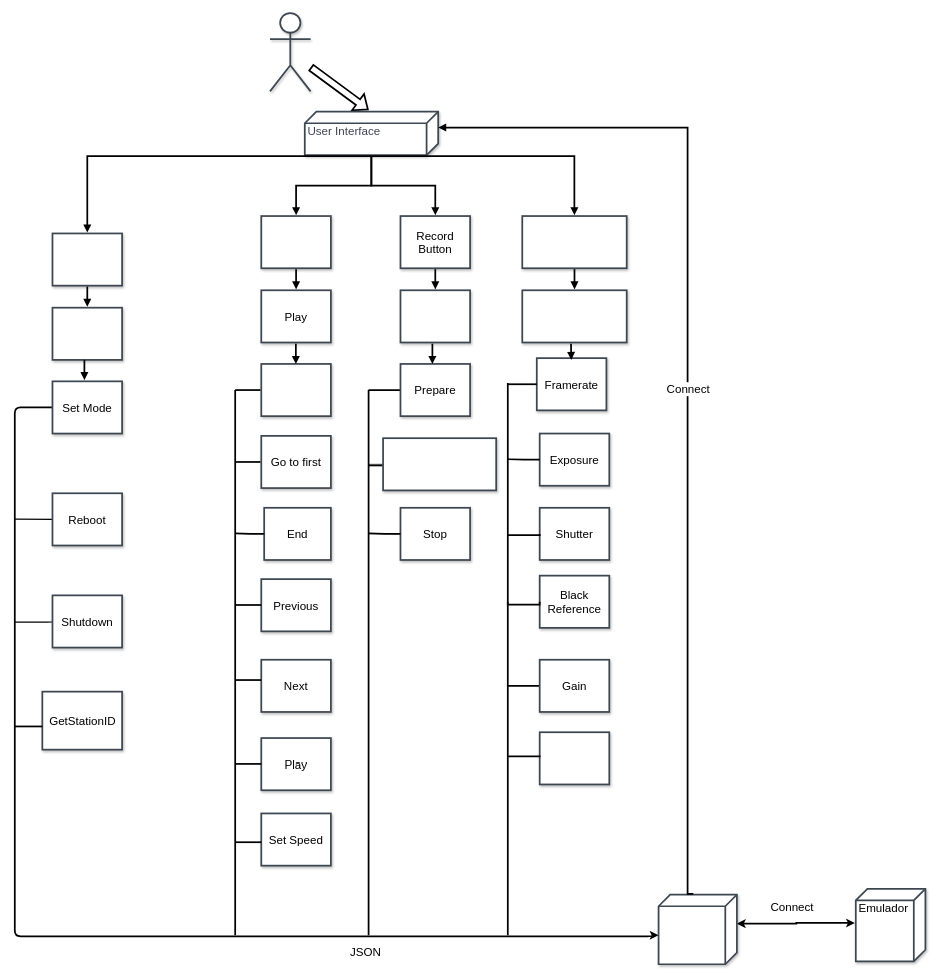
Image size: 940x979. Some labels were removed from this diagram. Here are the shapes that lost their labels. From the top down, the centre of each, then its label:
point (291, 53): actor
point (87, 260): General Button
point (296, 243): Play Button
point (575, 243): Camera Control Button
point (87, 334): General
point (435, 317): Record
point (575, 317): Camera Control
point (296, 390): Seek
point (440, 465): Record (Start/Pause)
point (574, 759): White Balance
point (698, 930): REST API
